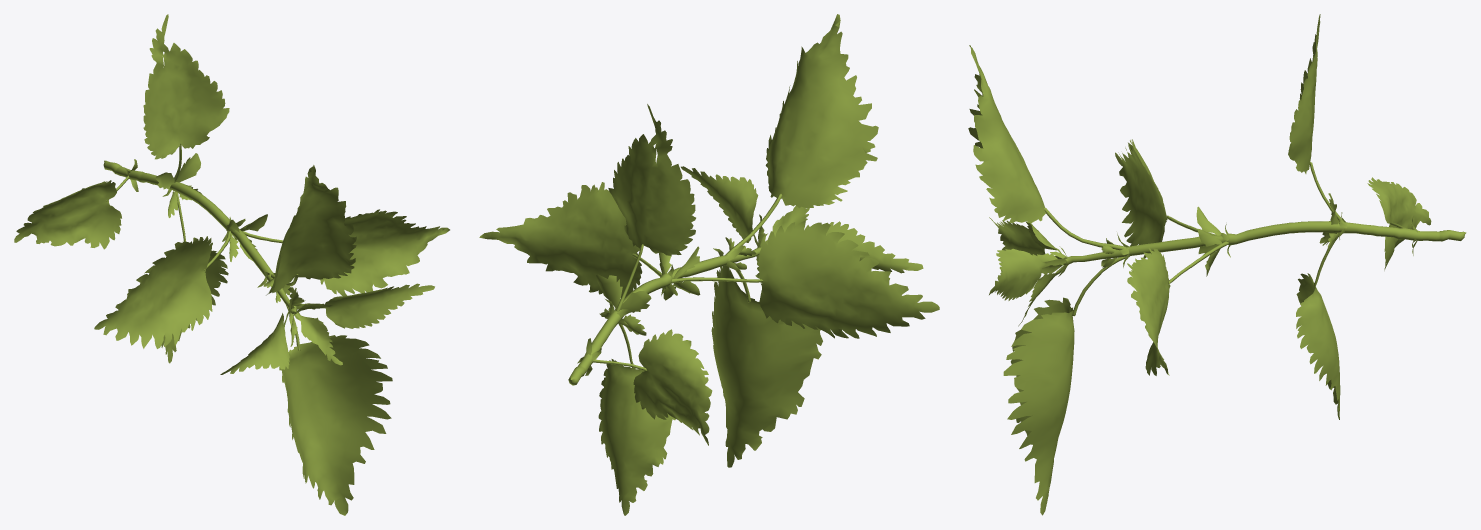
Rendered from weed1.glb.
3 renders of one model, left to right at view 1: azimuth 30°, elevation 25°; view 2: azimuth 150°, elevation 25°; view 3: azimuth 270°, elevation 25°, orthographic. The views are drawn at different scales.
Parts seen in each view (by area): view 1: UrticaDioica_fspdj_Small_lod0_OL.001; view 2: UrticaDioica_fspdj_Small_lod0_OL.001; view 3: UrticaDioica_fspdj_Small_lod0_OL.001.
Part boxes in pixels (bbox=[...]): UrticaDioica_fspdj_Small_lod0_OL.001: bbox=[14, 14, 449, 515]; UrticaDioica_fspdj_Small_lod0_OL.001: bbox=[479, 14, 939, 515]; UrticaDioica_fspdj_Small_lod0_OL.001: bbox=[968, 14, 1466, 515].
Bounding box in the file's own units: 0.2773 × 0.2955 × 0.282.
